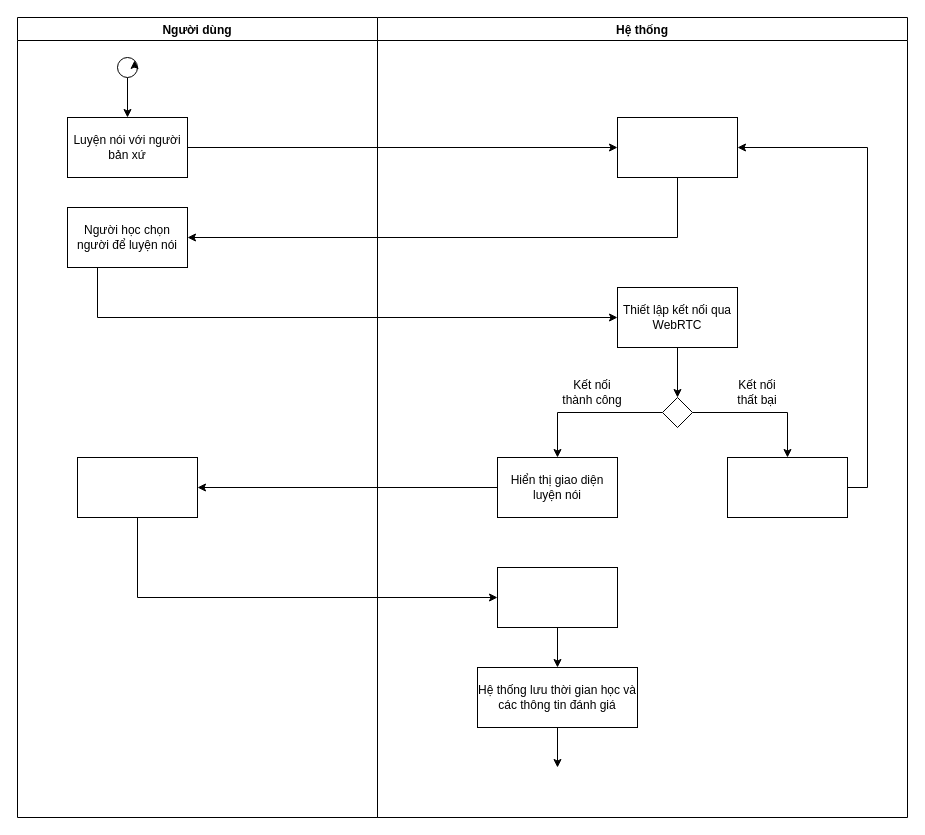
Some shapes in this 925 by 835 pixel diagram are drawn without their labels. Here are the shapes that lost their labels. From the top down, the centre of each, then its label:
At point (677, 147): "Hiển thị danh sách người bản xứ".
At point (137, 487): "Kết thức phiên".
At point (787, 487): "Thông báo thất bại".
At point (557, 597): "Hệ thống đóng kết nối WebRTC".
